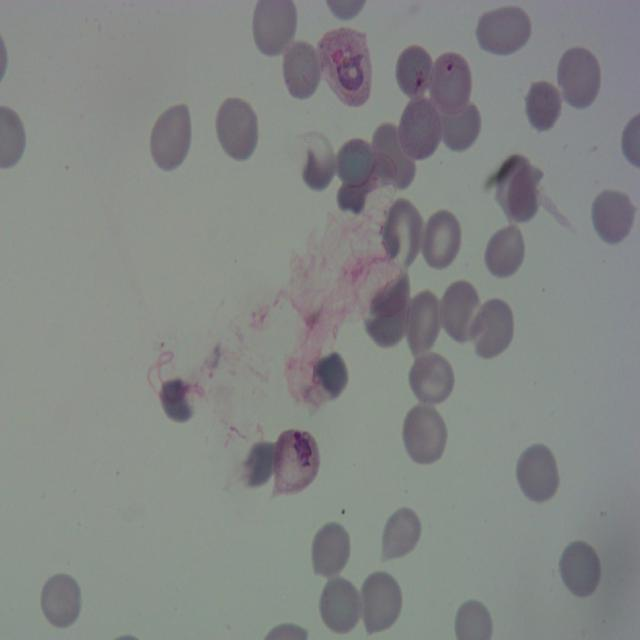gametocyte: (319, 27, 373, 108)
leukocyte: (148, 102, 194, 174), (370, 123, 416, 192), (401, 401, 449, 467), (468, 296, 516, 362), (555, 44, 603, 110), (214, 95, 260, 162), (439, 277, 484, 345), (514, 440, 560, 506), (397, 95, 443, 161), (364, 287, 412, 350), (357, 570, 404, 634), (418, 207, 464, 272), (383, 198, 424, 270), (557, 538, 603, 600), (316, 573, 362, 634), (407, 350, 455, 408), (476, 5, 532, 54), (38, 571, 84, 630), (279, 39, 322, 101), (402, 290, 442, 355), (590, 186, 634, 245), (434, 98, 482, 152), (310, 520, 353, 579), (381, 503, 424, 559), (484, 220, 524, 280), (334, 135, 378, 188), (506, 164, 544, 224), (311, 348, 349, 401), (524, 81, 562, 134), (242, 442, 276, 490), (160, 378, 194, 425), (302, 147, 336, 192)
schizont: (274, 426, 319, 495)
